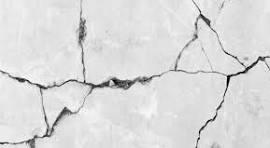Crack: (0, 69, 100, 148), (195, 48, 270, 148), (170, 0, 252, 75), (92, 65, 173, 97), (73, 0, 92, 87)
